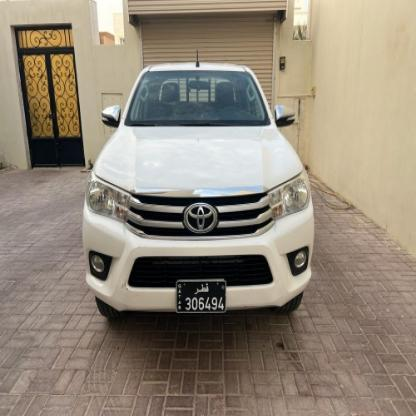np: (173, 273, 230, 313)
